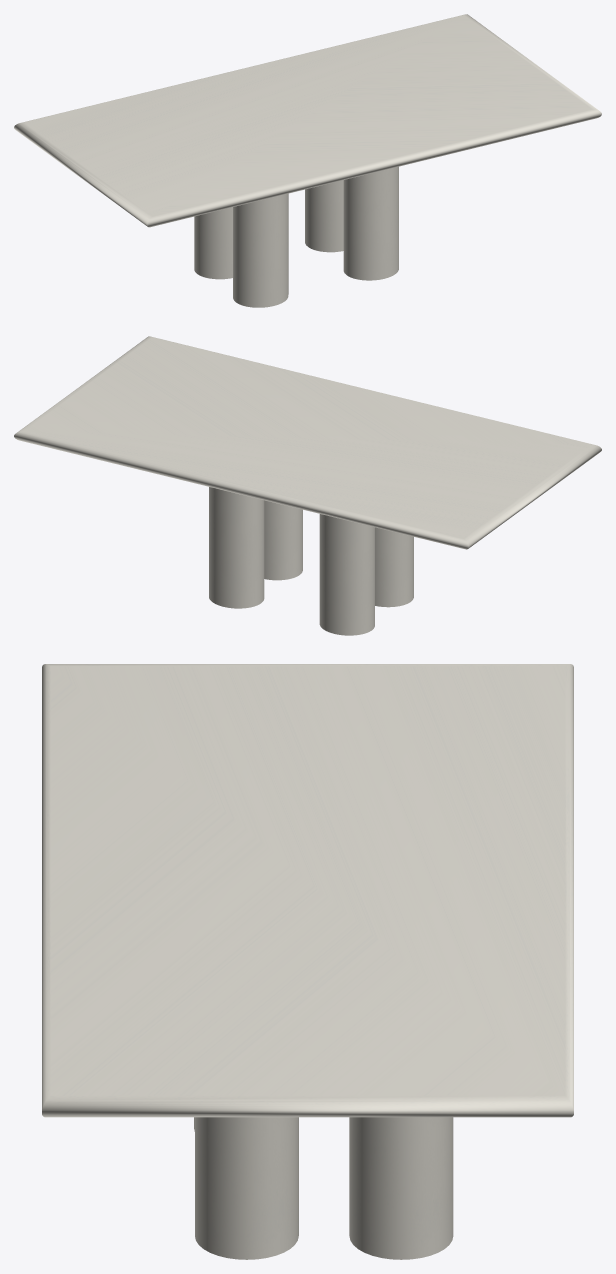
Rendered from pale_recta_round_grove.glb.
3 views of the same model, one above another, from view 1: azimuth 30°, elevation 25°; view 2: azimuth 150°, elevation 25°; view 3: azimuth 270°, elevation 25° (orthographic). The views are drawn at different scales.
Parts seen in each view (by area): view 1: round_recta, grove; view 2: round_recta, grove; view 3: round_recta, grove.
Boxes of the visible parts, bbox=[...] form: round_recta: bbox=[14, 14, 601, 227]; grove: bbox=[194, 166, 398, 307]; round_recta: bbox=[14, 336, 601, 549]; grove: bbox=[209, 487, 413, 635]; round_recta: bbox=[42, 664, 573, 1117]; grove: bbox=[194, 1117, 453, 1259].
Bounding box in the file's own units: 7.76 × 2.51 × 3.93.
1 material, 1 textured.
